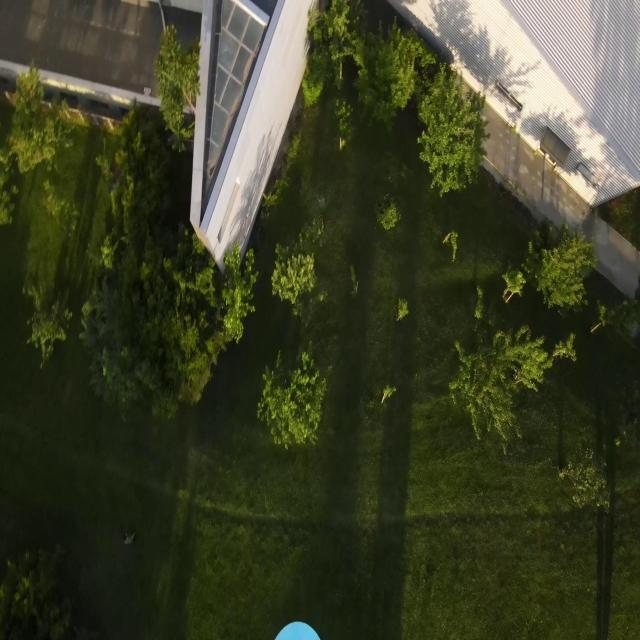p3rson: (122, 528, 136, 546)
